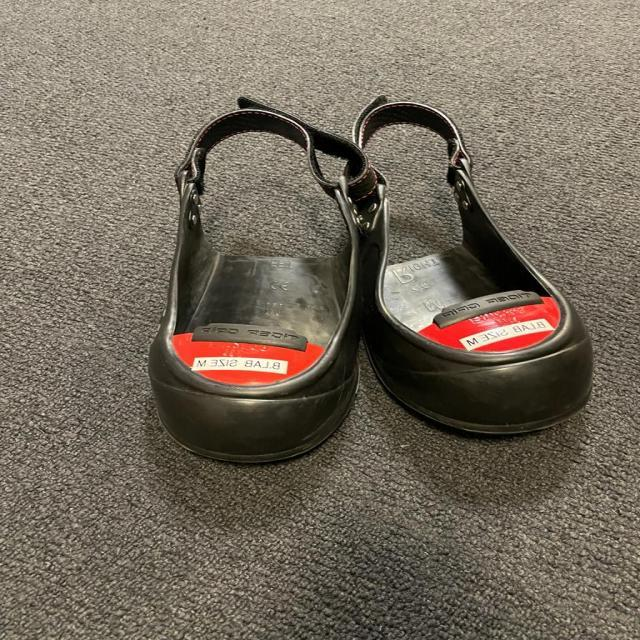shoes: (349, 85, 604, 439), (142, 92, 374, 475)
